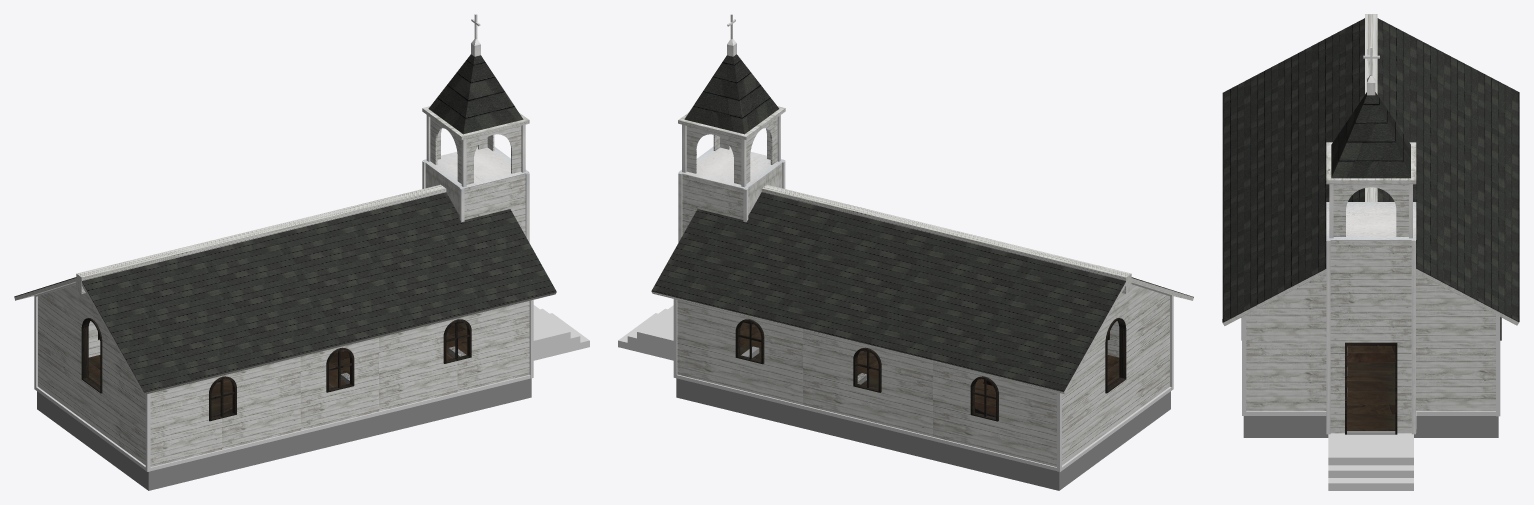
The model's file is Church Demo w Texture.FBX.
3 views of the same model, side by side, from view 1: azimuth 30°, elevation 25°; view 2: azimuth 150°, elevation 25°; view 3: azimuth 270°, elevation 25° (orthographic). The views are drawn at different scales.
Visible parts, largest first — view 1: right tiles, right wall.002, Cube.004, Cube.003, tower roof.001, roof support beam, tower right wall, Cube, right bottom outerrail, Cube.005, right roof, Cube.020 (+6 smaller); view 2: left shingles, left wall, Cube.004, Cube.003, tower roof.001, roof support beam, Tower left wall, Cube, left bottom outerrail, Cube.005, left roof, Cube.001 (+6 smaller); view 3: right tiles, left shingles, tower back wall, back right wall, back left wall, tower roof.001, Cube.004, floor, Cube.005, Cube, Cube.011, Cube.023 (+13 smaller).
Boxes of the visible parts, x1,y1,x2,y2 form: right tiles: [82, 192, 556, 392]; right wall.002: [150, 301, 529, 466]; Cube.004: [37, 378, 531, 490]; Cube.003: [38, 294, 145, 464]; tower roof.001: [428, 54, 523, 134]; roof support beam: [76, 184, 446, 293]; tower right wall: [464, 174, 525, 235]; Cube: [422, 147, 529, 188]; right bottom outerrail: [150, 375, 530, 470]; Cube.005: [533, 305, 570, 360]; right roof: [82, 282, 556, 394]; Cube.020: [466, 126, 520, 184]; left shingles: [651, 192, 1125, 391]; left wall: [677, 300, 1056, 466]; Cube.004: [676, 378, 1170, 490]; Cube.003: [1062, 294, 1169, 465]; tower roof.001: [684, 54, 779, 134]; roof support beam: [761, 184, 1131, 293]; Tower left wall: [682, 174, 743, 235]; Cube: [678, 146, 785, 188]; left bottom outerrail: [676, 374, 1056, 470]; Cube.005: [637, 305, 673, 360]; left roof: [652, 282, 1125, 394]; Cube.001: [686, 126, 741, 184]; right tiles: [1222, 18, 1364, 322]; left shingles: [1377, 18, 1519, 321]; tower back wall: [1330, 240, 1411, 433]; back right wall: [1246, 273, 1326, 411]; back left wall: [1416, 273, 1495, 411]; tower roof.001: [1331, 92, 1410, 178]; Cube.004: [1243, 416, 1498, 437]; floor: [1347, 346, 1395, 414]; Cube.005: [1328, 433, 1413, 465]; Cube: [1326, 202, 1416, 240]; Cube.011: [1333, 184, 1408, 236]; Cube.023: [1328, 478, 1413, 490].
Size of the model in its own units: 47274 by 31407 by 21656.
Materials: 15 (8 with a texture image).
